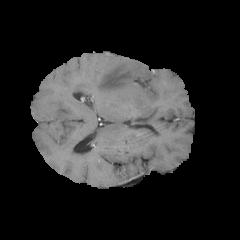glioma: (96, 59, 158, 104)
